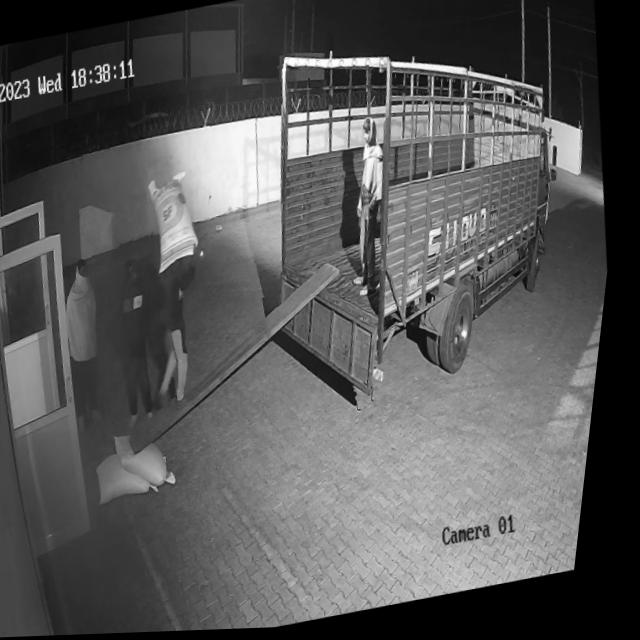sack: (144, 171, 213, 276), (119, 425, 192, 496), (101, 446, 174, 507)
